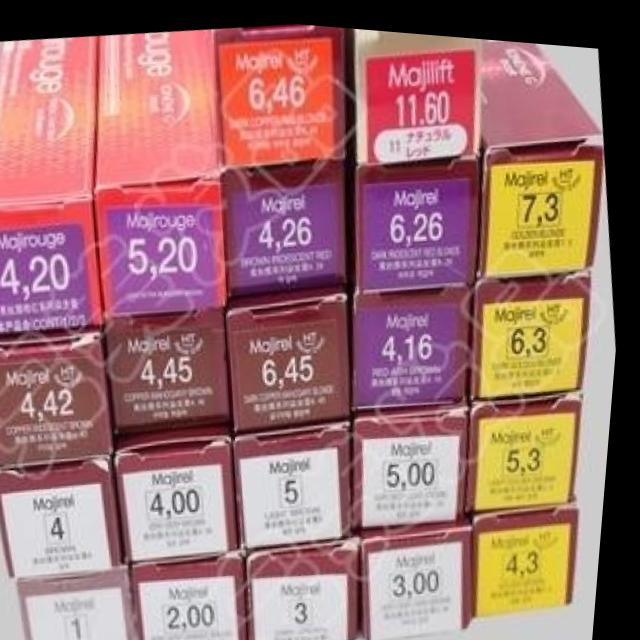box: (97, 25, 232, 316), (0, 34, 109, 332), (481, 31, 607, 273), (229, 277, 359, 428), (215, 19, 348, 166), (348, 148, 482, 286), (346, 22, 482, 157), (0, 322, 122, 471), (122, 420, 247, 561), (230, 156, 351, 292), (240, 411, 360, 548), (0, 455, 134, 577), (109, 306, 237, 429), (478, 262, 599, 391), (356, 277, 477, 405), (474, 381, 591, 506), (367, 510, 484, 633), (361, 396, 474, 523), (478, 491, 589, 609), (253, 529, 370, 640), (140, 546, 260, 640), (27, 562, 152, 640)
